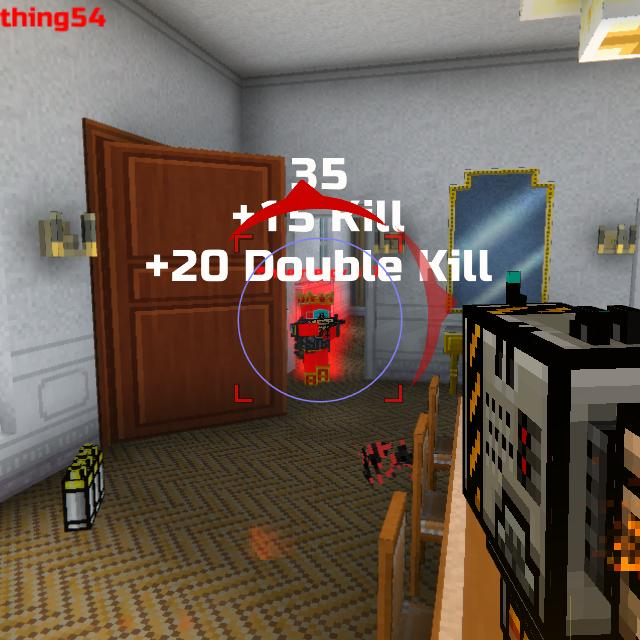Enemy: (292, 298, 346, 387)
